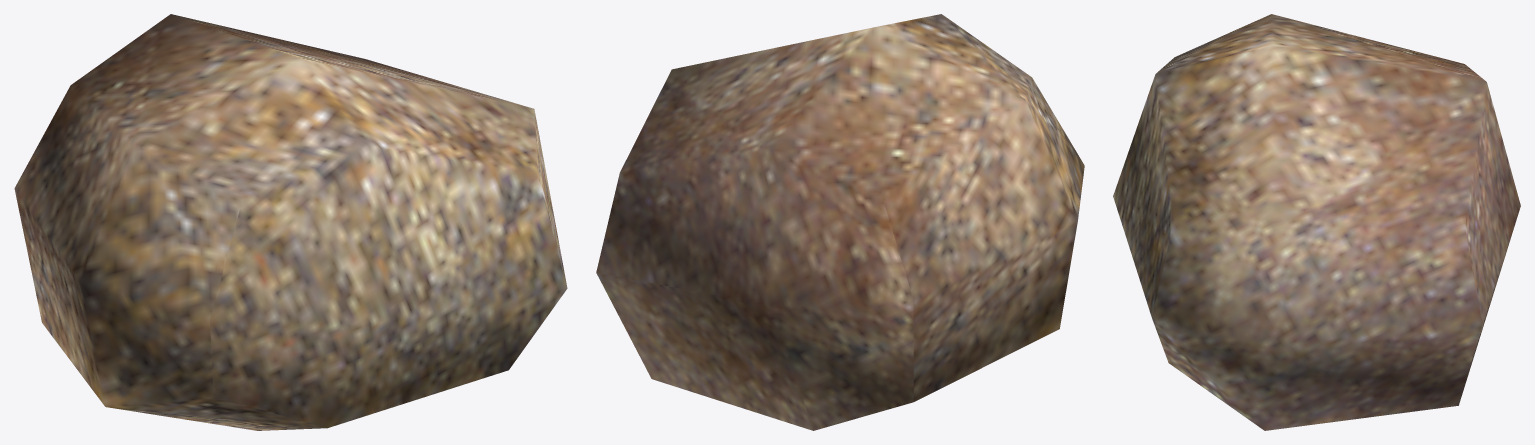
Rendered from stein1.fbx.
3 renders of one model, left to right at view 1: azimuth 30°, elevation 25°; view 2: azimuth 150°, elevation 25°; view 3: azimuth 270°, elevation 25°, orthographic. The views are drawn at different scales.
Parts seen in each view (by area): view 1: stein_a; view 2: stein_a; view 3: stein_a.
Boxes of the visible parts, x1,y1,x2,y2 form: stein_a: [14, 14, 567, 430]; stein_a: [596, 14, 1084, 430]; stein_a: [1113, 14, 1520, 430].
Size of the model in its own units: 25.35 by 18.76 by 22.85.
1 material, 1 textured.
